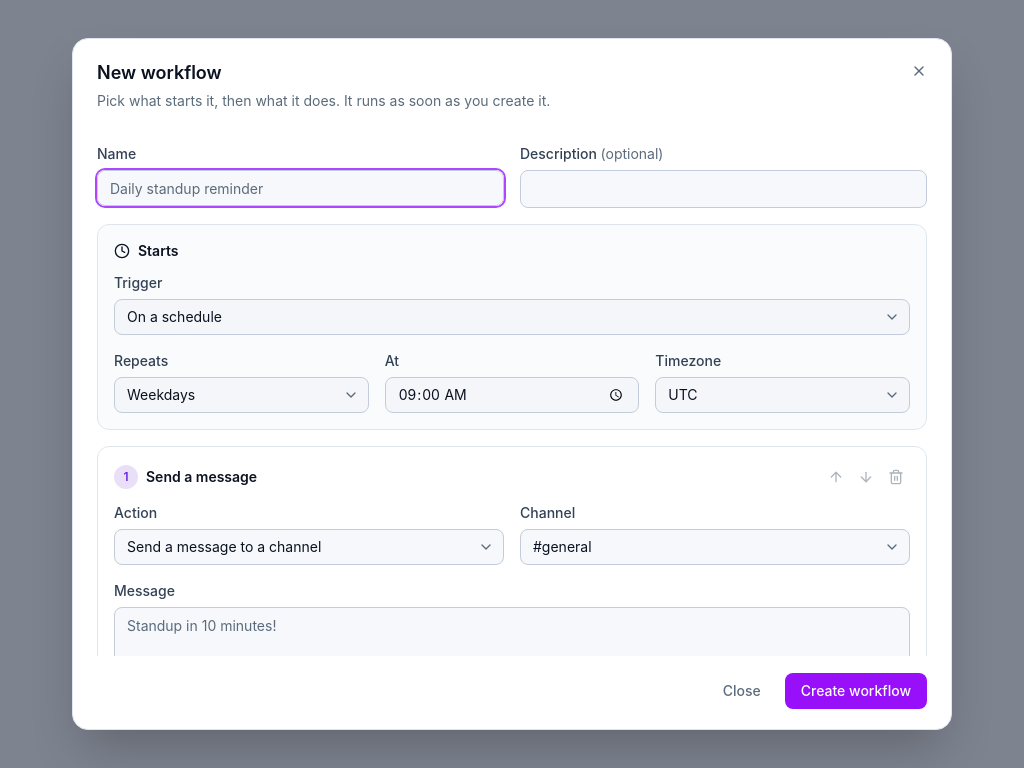
WorkflowEditor › shows why the server refused a save
Click the button with test id "workflow-save": (856, 691) [785,673,927,709]
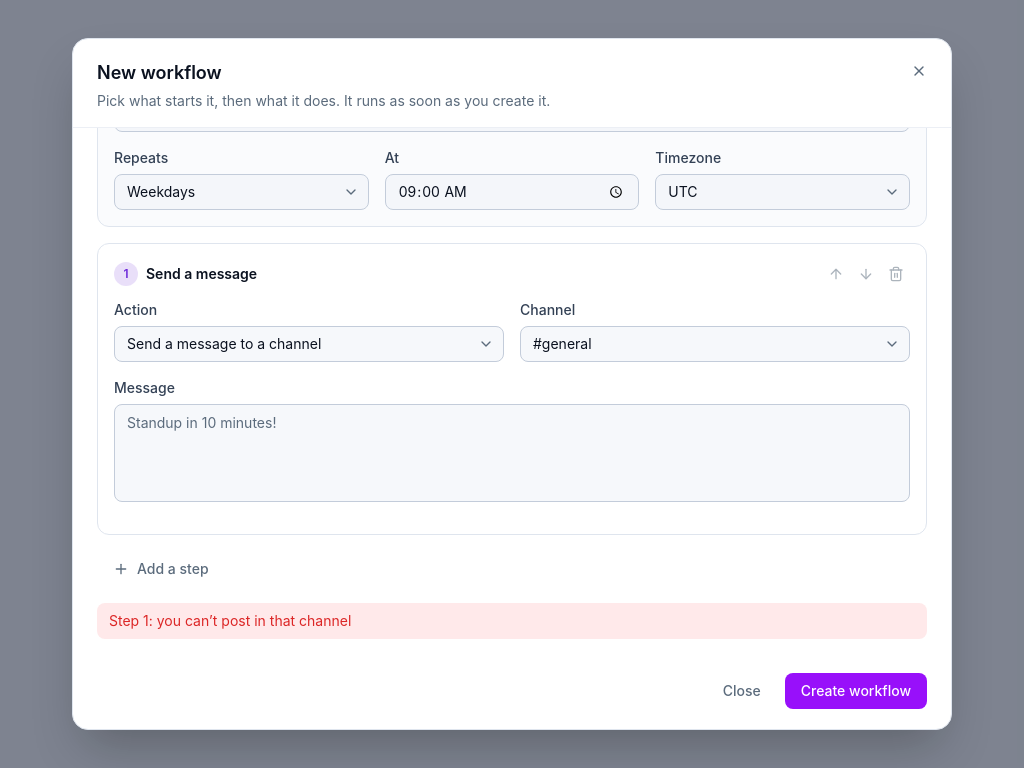
Result: the message with test id "workflow-error" reads "Step 1: you can’t post in that channel" at [109,612,351,629]
